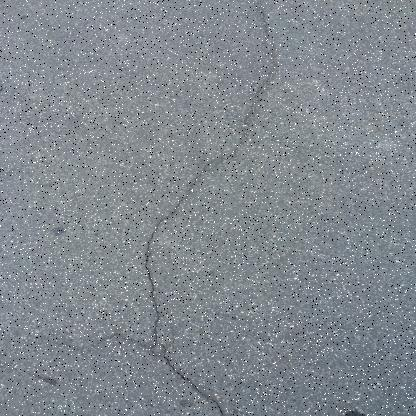Cracks: (134, 0, 284, 415)
